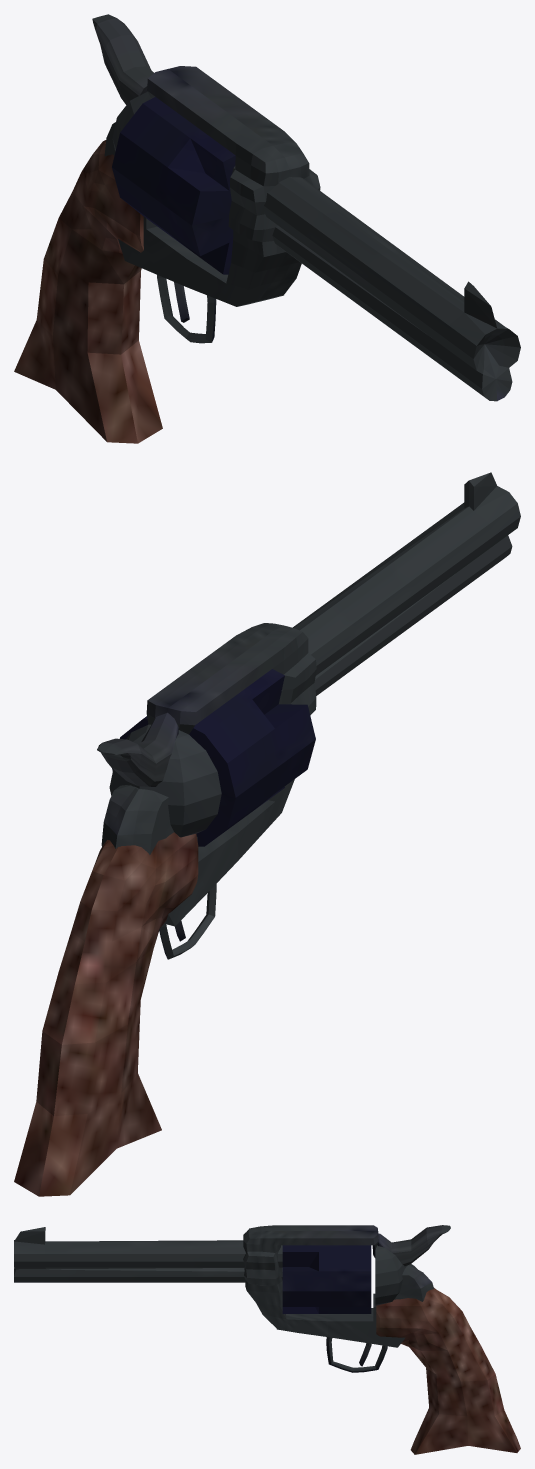
File: RevolverFogo.fbx
3 views of the same model, one above another, from view 1: azimuth 30°, elevation 25°; view 2: azimuth 150°, elevation 25°; view 3: azimuth 270°, elevation 25° (orthographic). The views are drawn at different scales.
Visible parts, largest first — view 1: Barrel; view 2: Barrel; view 3: Barrel.
Part boxes in pixels (x1,y1,x2,y2): Barrel: (14, 14, 520, 443); Barrel: (14, 472, 520, 1196); Barrel: (14, 1225, 520, 1454).
Size of the model in its own units: 17.22 by 53.64 by 110.
